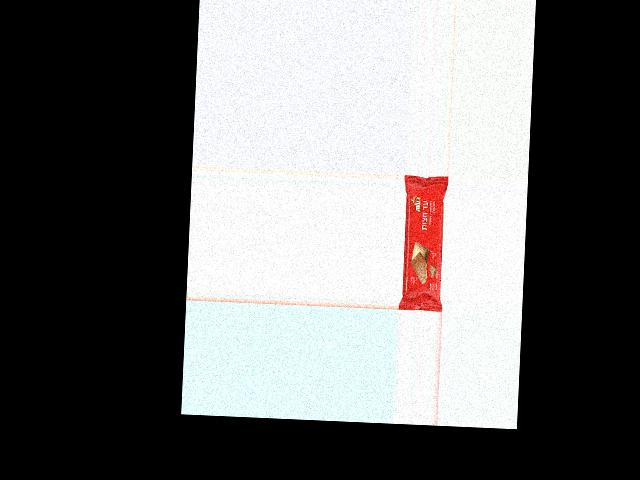chocolate: (398, 178, 449, 310)
